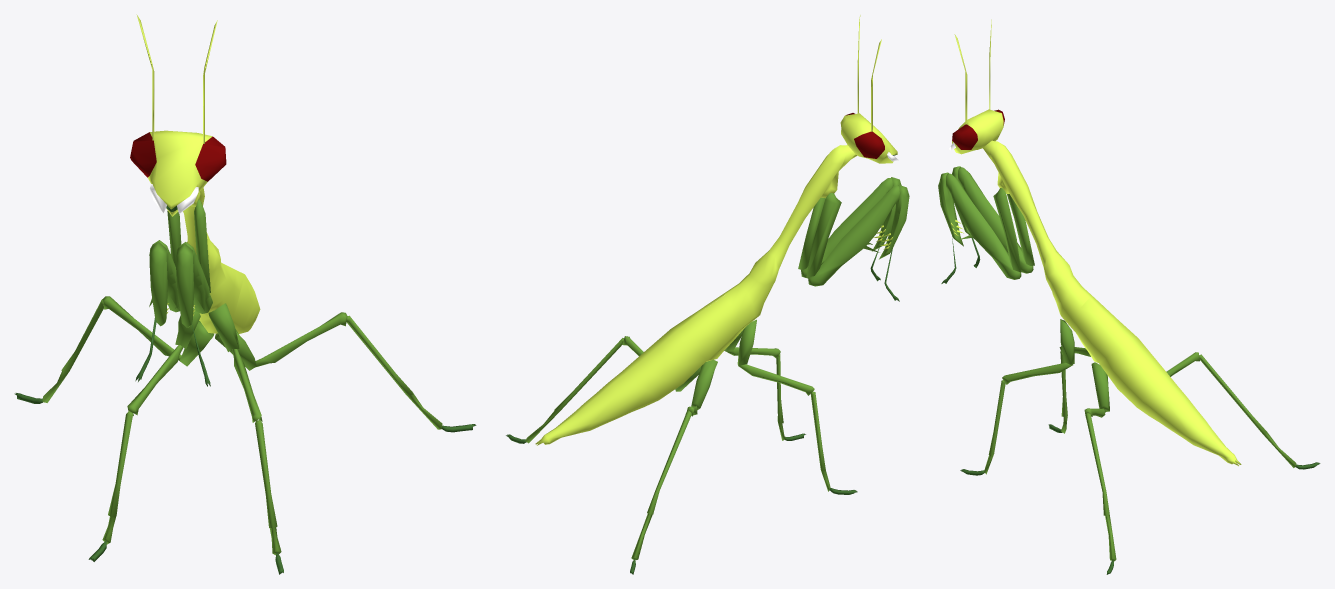
File: 15ee6cee-4431-4dcf-8848-2b54980a6fff.glb
The picture shows the model from 3 angles, left to right: view 1: azimuth 30°, elevation 25°; view 2: azimuth 150°, elevation 25°; view 3: azimuth 270°, elevation 25°; orthographic projection. The views are drawn at different scales.
Parts seen in each view (by area): view 1: Mantis; view 2: Mantis; view 3: Mantis.
Boxes of the visible parts, x1,y1,x2,y2 form: Mantis: (14, 14, 476, 574); Mantis: (506, 15, 909, 574); Mantis: (938, 19, 1320, 574).
Size of what is drawn, in the model's own units: 0.3012 by 0.3831 by 0.32.
1 material, 1 textured.
